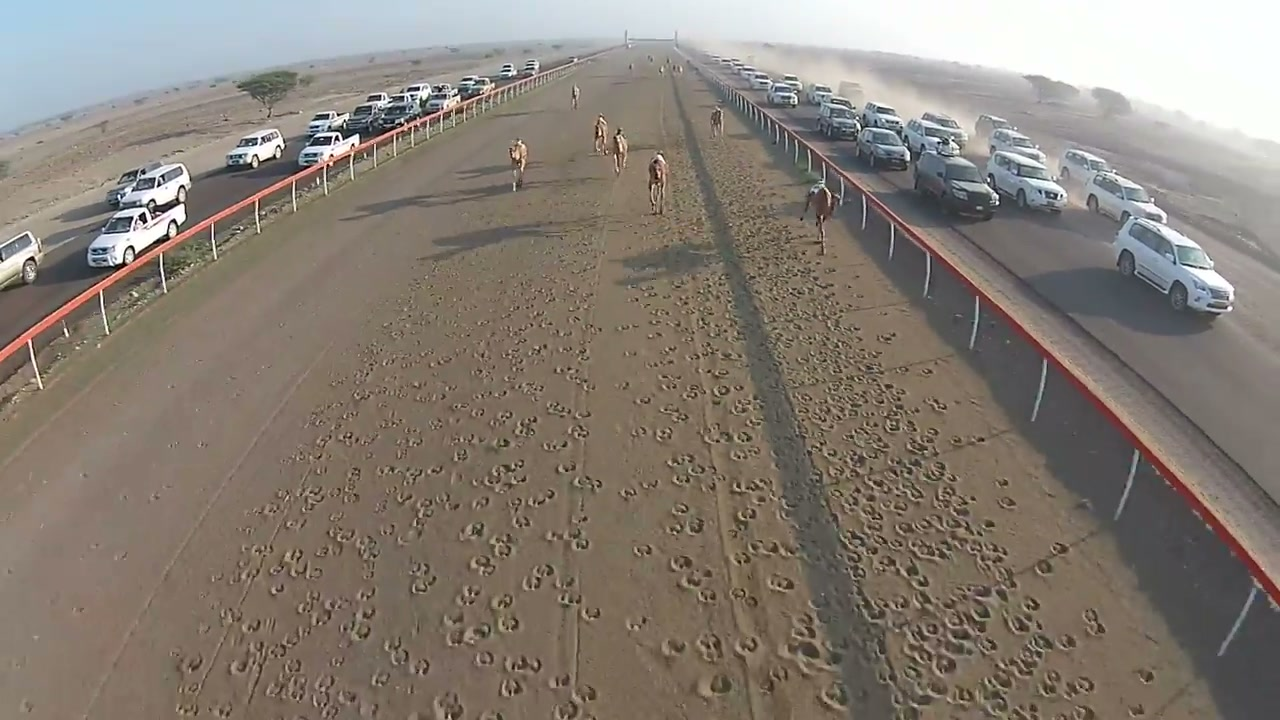animal_footprint: (170, 83, 1196, 719)
